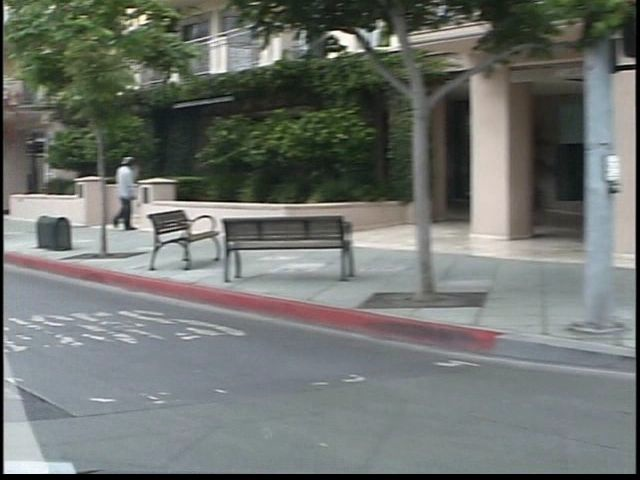person: (94, 152, 133, 242)
